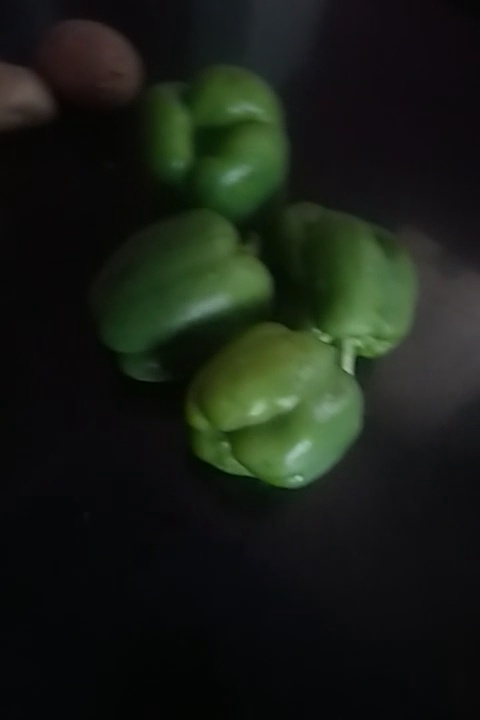capsicum: (180, 308, 368, 496), (250, 183, 422, 371), (99, 217, 277, 369), (149, 71, 297, 217)
potato: (34, 20, 151, 102), (1, 56, 65, 134)
